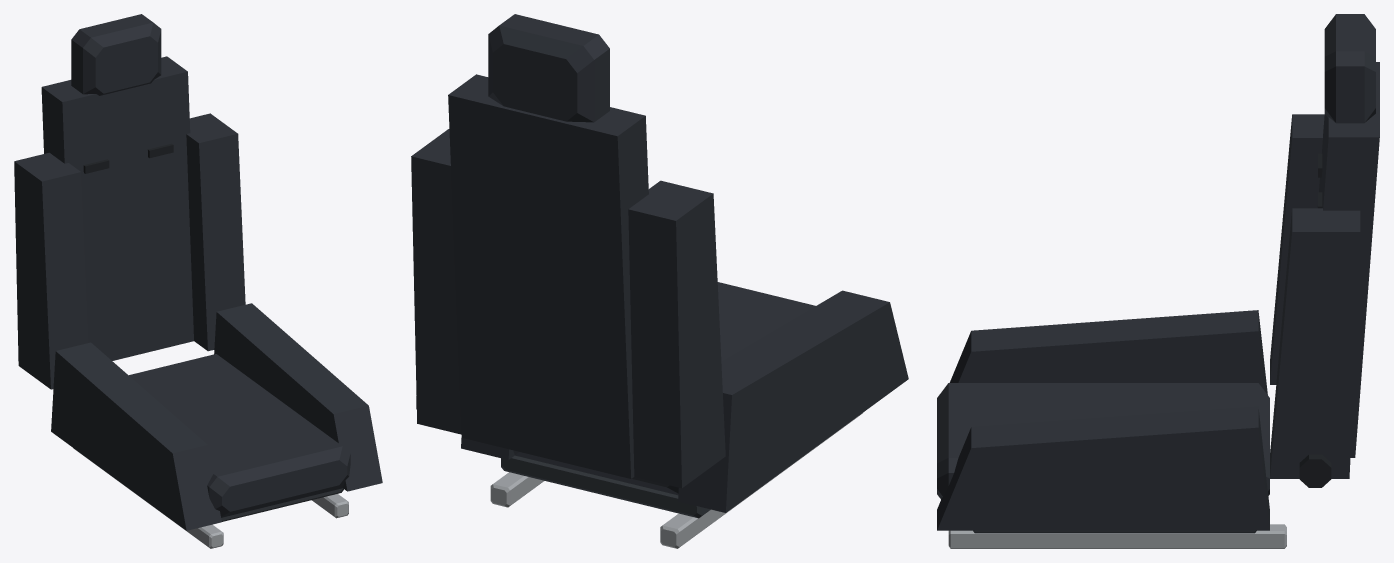
File: hana_roadster.glb
The picture shows the model from 3 angles, left to right: view 1: azimuth 30°, elevation 25°; view 2: azimuth 150°, elevation 25°; view 3: azimuth 270°, elevation 25°; orthographic projection. The views are drawn at different scales.
Visible parts, largest first — view 1: model; view 2: model; view 3: model.
Part boxes in pixels (x1,y1,x2,y2): model: [14, 14, 382, 548]; model: [411, 14, 908, 548]; model: [937, 14, 1379, 548].
Bounding box in the file's own units: 0.5088 × 0.922 × 0.7784.
Materials: 3 (1 with a texture image).
